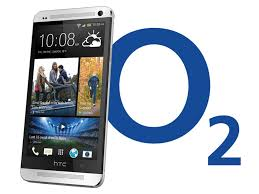htc: (17, 1, 116, 187)
